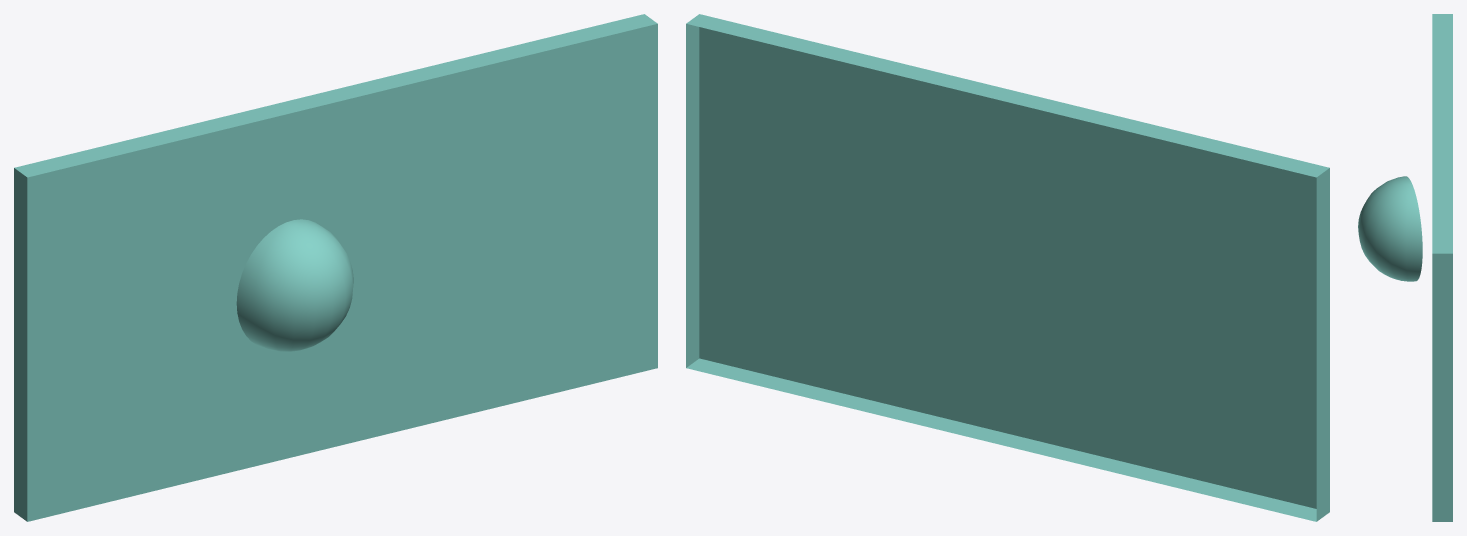
File: Background.fbx
The picture shows the model from 3 angles, left to right: view 1: azimuth 30°, elevation 25°; view 2: azimuth 150°, elevation 25°; view 3: azimuth 270°, elevation 25°; orthographic projection. The views are drawn at different scales.
Parts seen in each view (by area): view 1: Background; view 2: Background; view 3: Background.
Boxes of the visible parts, x1=… form: Background: x1=14, y1=14, x2=657, y2=521; Background: x1=686, y1=14, x2=1329, y2=521; Background: x1=1358, y1=14, x2=1452, y2=521.
Size of the model in its own units: 1330 by 694 by 223.
